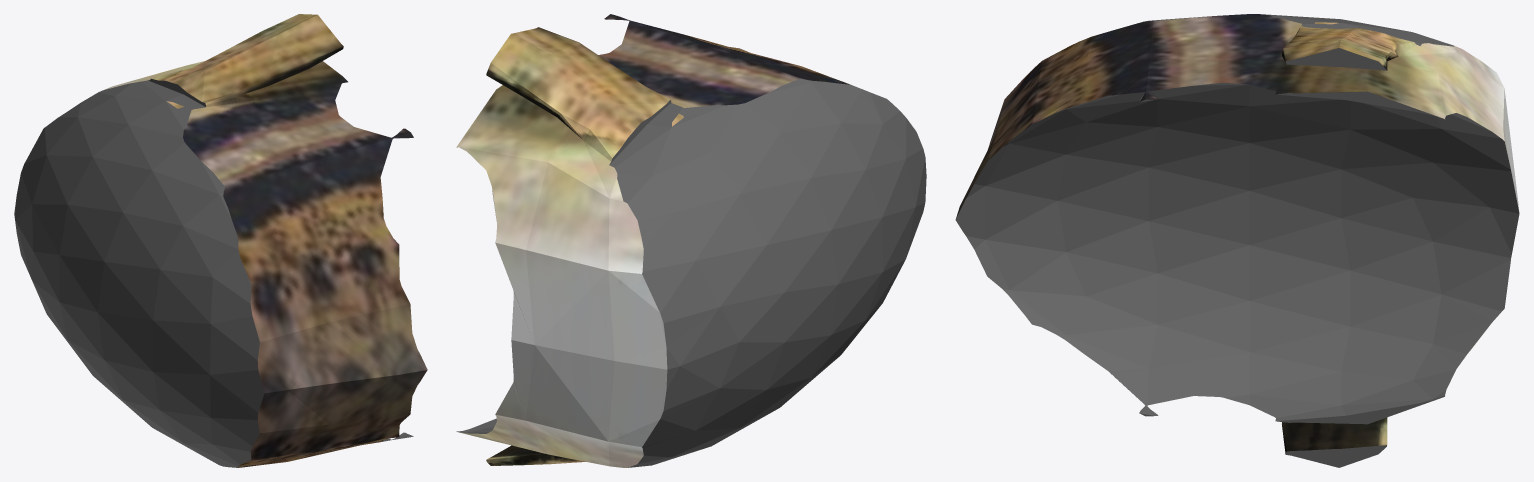
3 views of the same model, side by side, from view 1: azimuth 30°, elevation 25°; view 2: azimuth 150°, elevation 25°; view 3: azimuth 270°, elevation 25° (orthographic). The views are drawn at different scales.
Parts seen in each view (by area): view 1: link_2_visual; view 2: link_2_visual; view 3: link_2_visual.
Part boxes in pixels (bbox=[...]): link_2_visual: bbox=[14, 14, 427, 467]; link_2_visual: bbox=[456, 14, 926, 467]; link_2_visual: bbox=[955, 14, 1519, 467].
Bounding box in the file's own units: 0.00175 × 0.00256 × 0.00312.
Materials: 1 (1 with a texture image).
